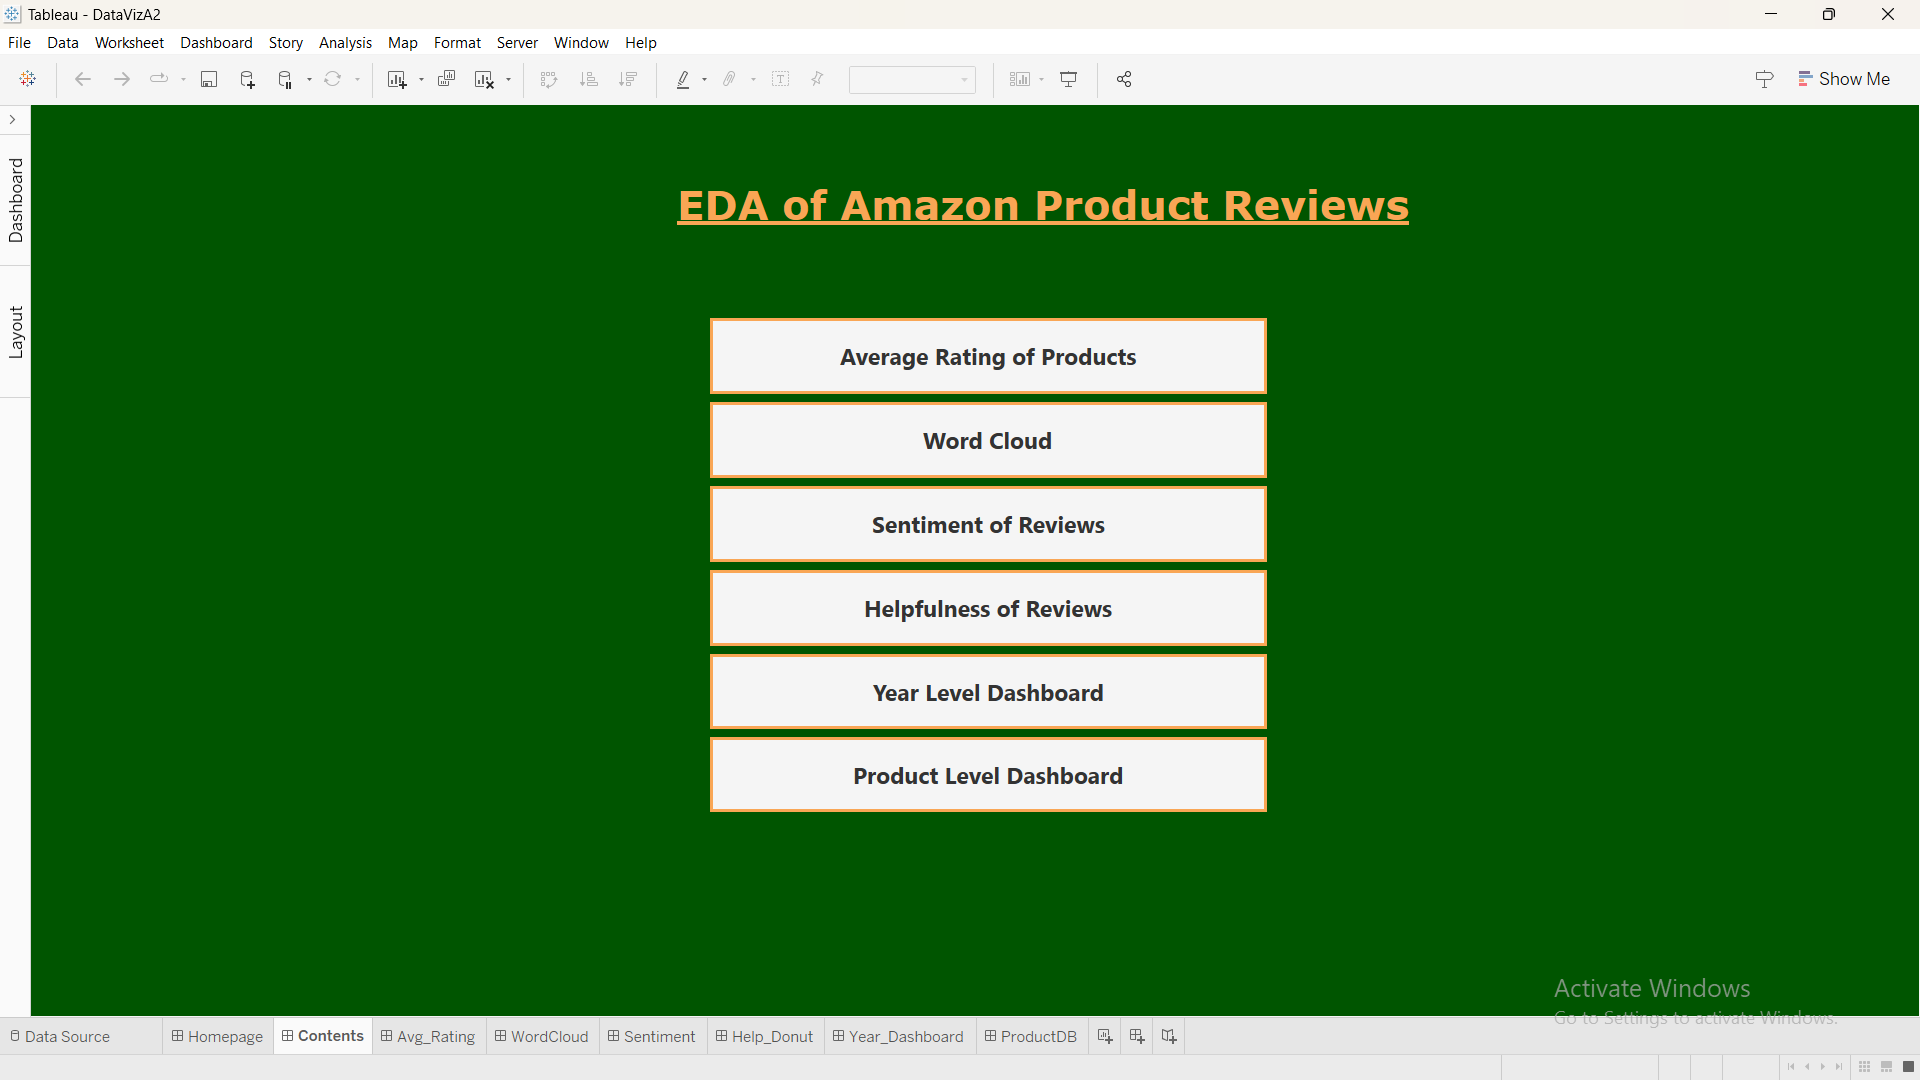

Layout of this report page (visuals, bound fields, positions):
{"tool":"tableau","page":{"name":"Contents","canvas":[1000,1000],"units":"permille","ordinal":1},"visuals":[{"type":"dashboard-object","box":[276.9,59.3,517.9,99.9]},{"type":"dashboard-object","box":[357.2,229.4,299.1,92.2]},{"type":"dashboard-object","box":[357.2,321.6,299.1,92.2]},{"type":"dashboard-object","box":[357.2,413.8,299.1,92.2]},{"type":"dashboard-object","box":[357.2,506,299.1,92.2]},{"type":"dashboard-object","box":[357.2,598.2,299.1,91.1]},{"type":"dashboard-object","box":[357.2,689.4,299.1,91.1]}]}

Visuals, with their boxes on the dashboard's canvas, which has no fixed pixel size, in thousandths of its width and height (x1, y1, x2, y2). These are canvas units, not pixel positions in the 1920x1080 screenshot, which may show the page scaled, cropped or inside an application window:
dashboard-object: box=[277, 59, 795, 159]
dashboard-object: box=[357, 229, 656, 322]
dashboard-object: box=[357, 322, 656, 414]
dashboard-object: box=[357, 414, 656, 506]
dashboard-object: box=[357, 506, 656, 598]
dashboard-object: box=[357, 598, 656, 689]
dashboard-object: box=[357, 689, 656, 780]
